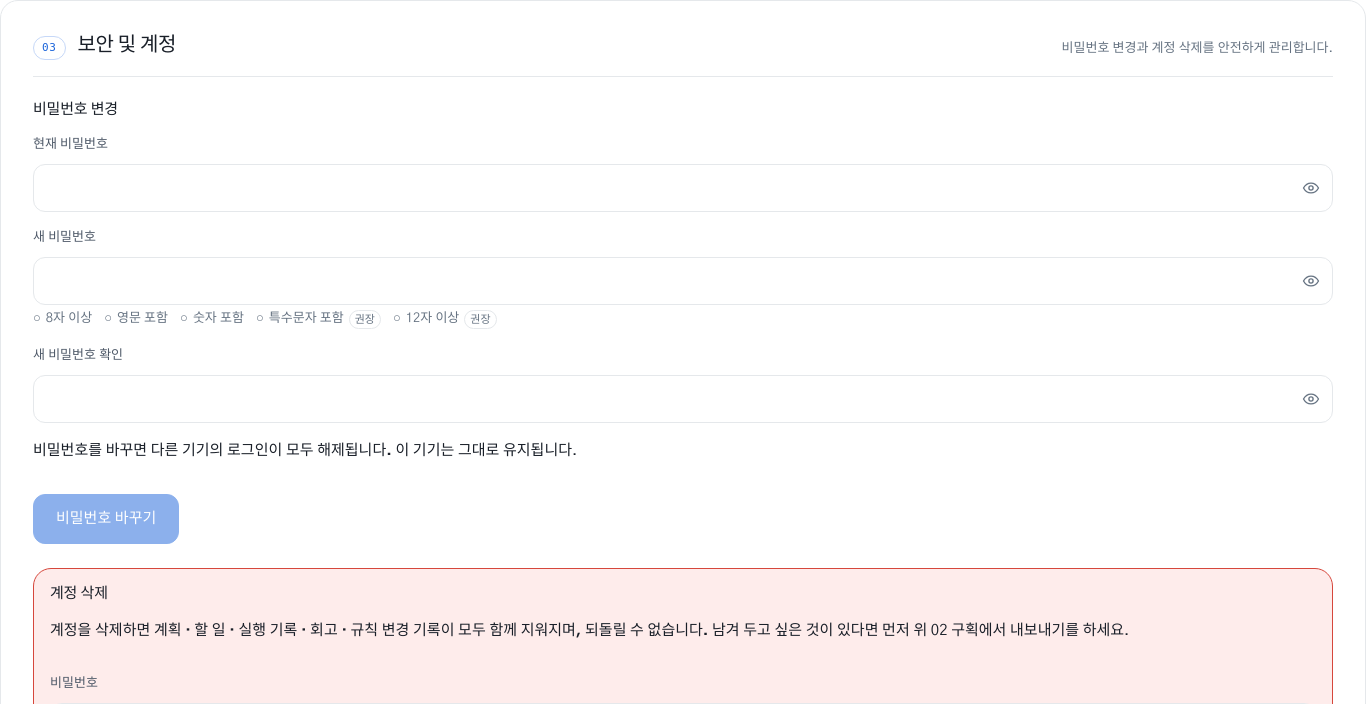
Scenario: 비밀번호 변경 › 현재 비밀번호 · 강도 · 일치가 모두 갖춰져야 눌린다
Expected: the password field labelled "현재 비밀번호" is shown, [33, 164, 1333, 212]
Expected: the button "비밀번호 바꾸기" is disabled, [33, 494, 179, 544]
Type "합성-새-비밀번호-8d31" into the password field labelled "새 비밀번호" at point(683, 281), box [33, 257, 1333, 305]
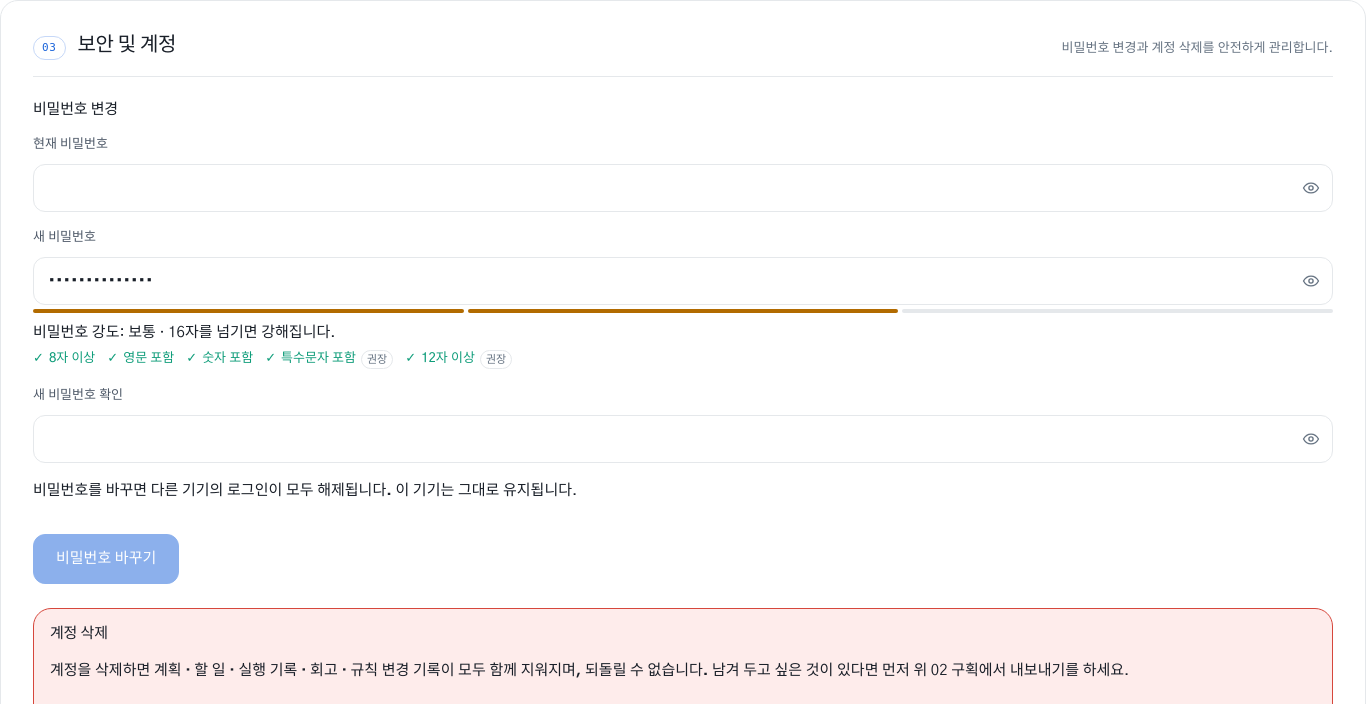
Type "합성-새-비밀번호-8d31" into the password field labelled "새 비밀번호 확인" at point(683, 438), box [33, 414, 1333, 462]
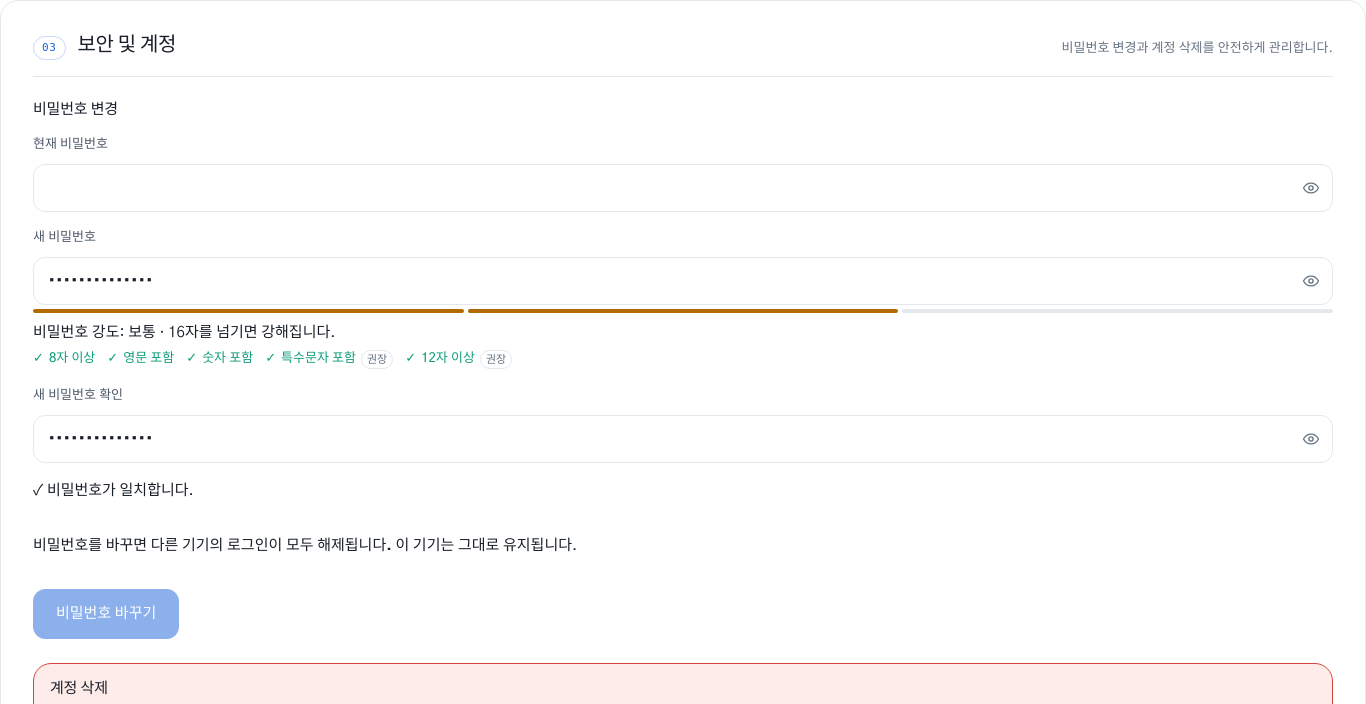
Expected: the button "비밀번호 바꾸기" is disabled, [33, 588, 179, 638]
Type "합성-현재-비밀번호-2c40" into the password field labelled "현재 비밀번호" at point(683, 188), box [33, 164, 1333, 212]
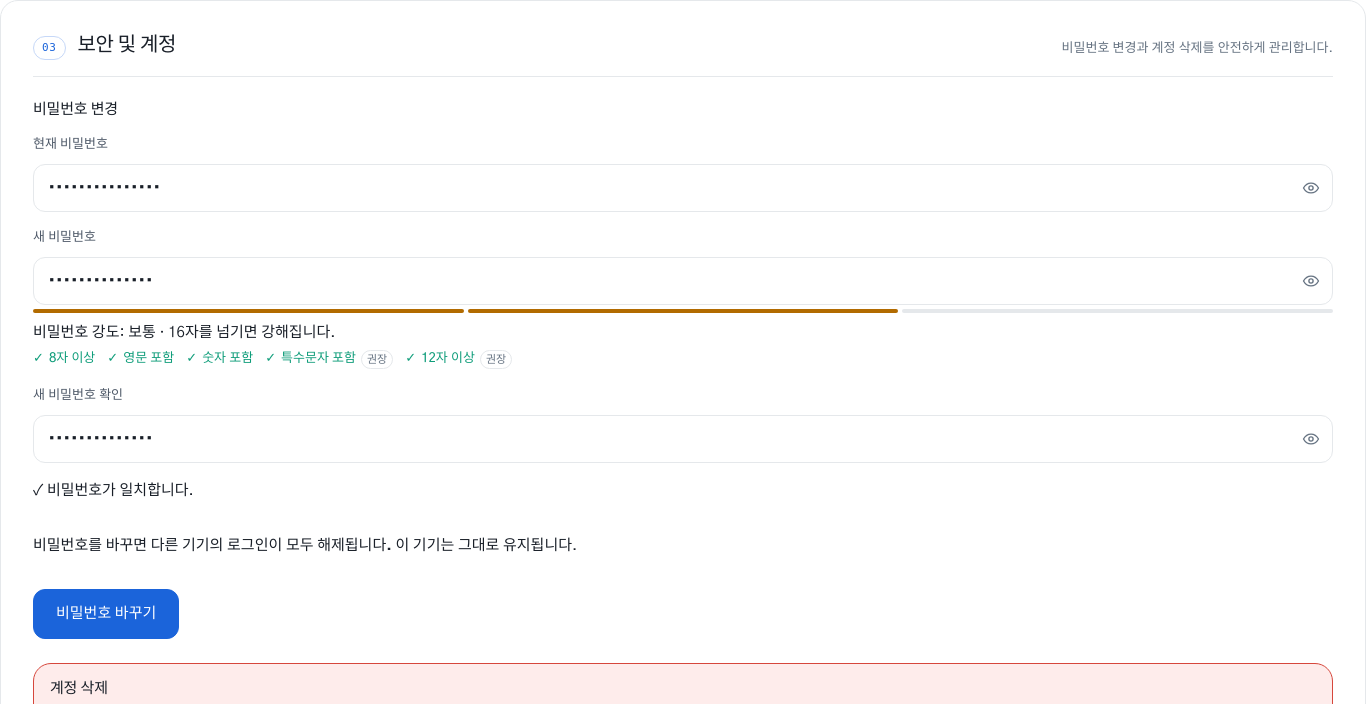
Expected: the button "비밀번호 바꾸기" is enabled, [33, 588, 179, 638]
